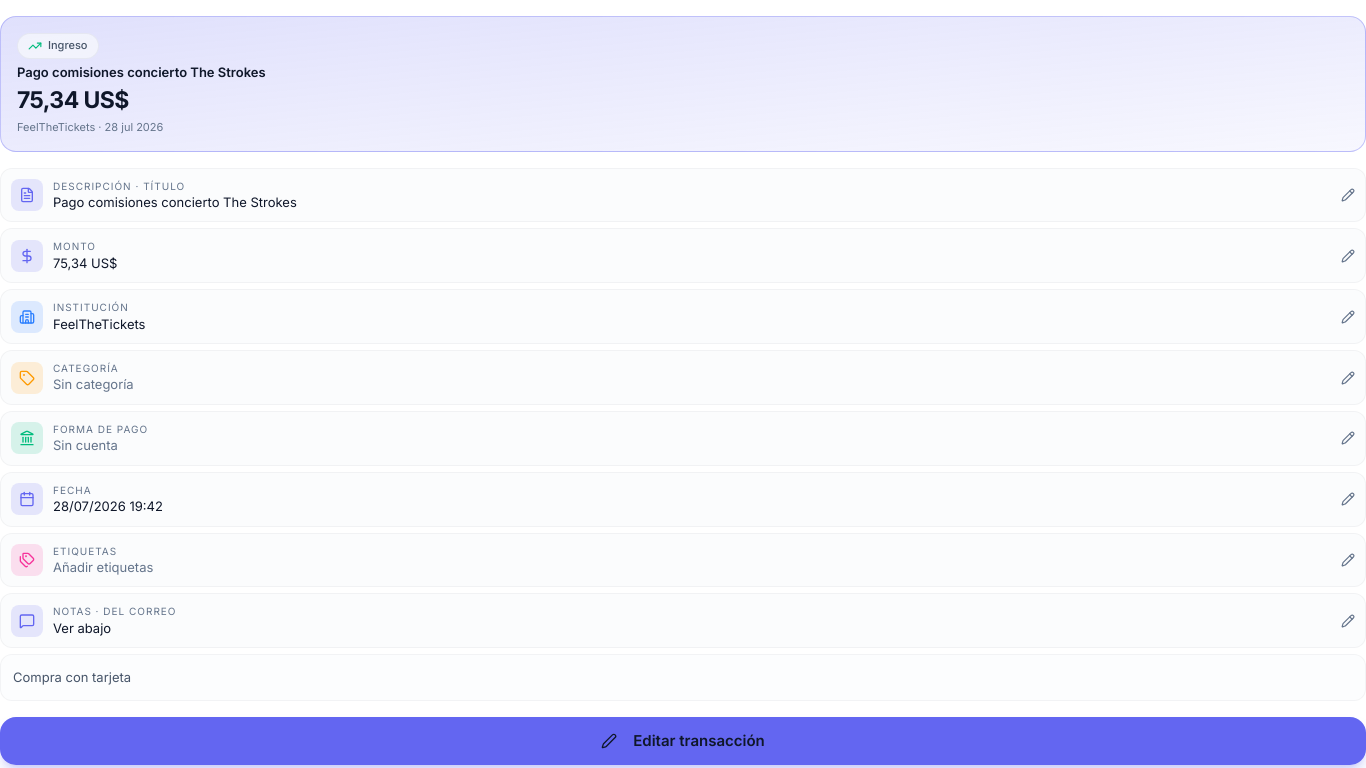
Test case: TransactionDetailClient · stepped experience › deja declarar la cuenta de destino al editar un ingreso
This screenshot has width=1366, height=768.
Click the text "Forma de pago".
click(101, 429)  # box [53,423,148,435]
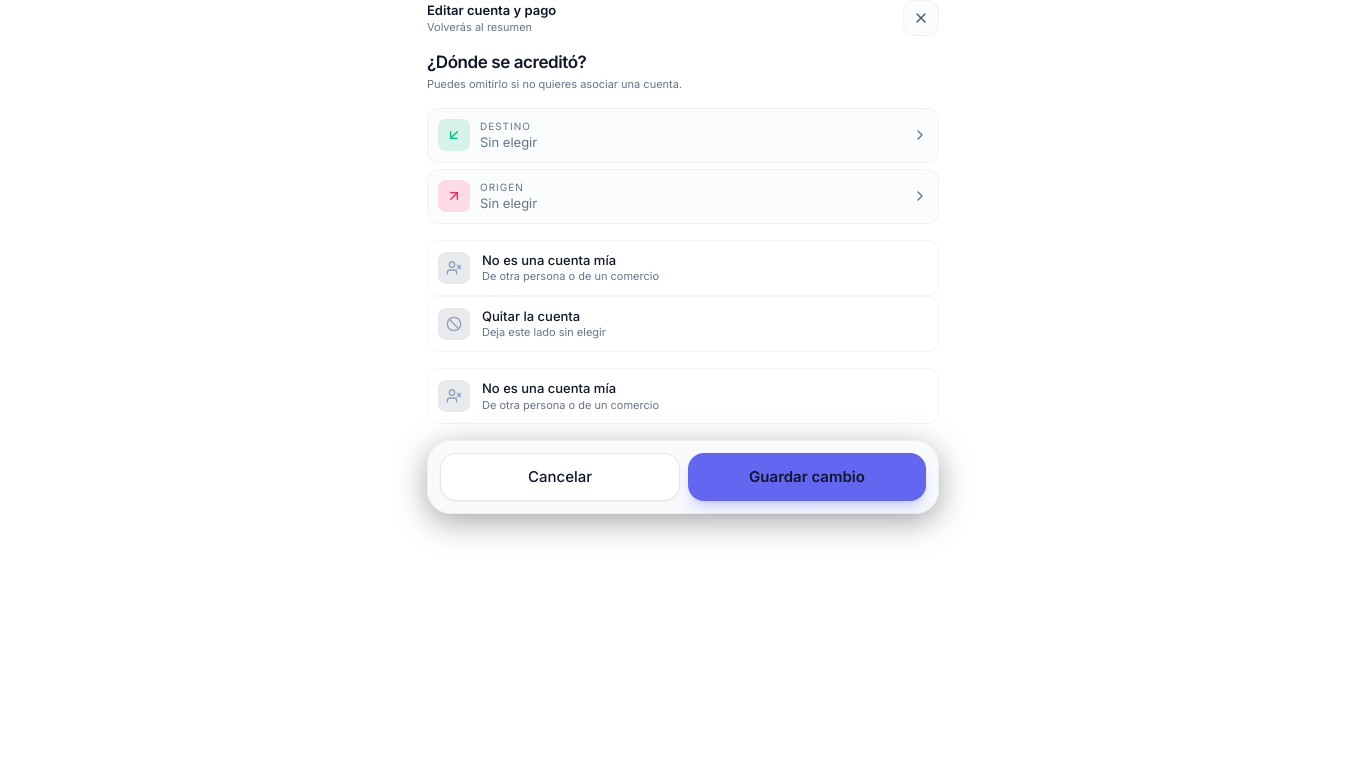
expect the heading "¿Dónde se acreditó?" is shown: met, box [427,52,586,72]
expect the text "Destino" is shown: met, box [480,120,531,132]
expect the text "Origen" is shown: met, box [480,181,524,193]
